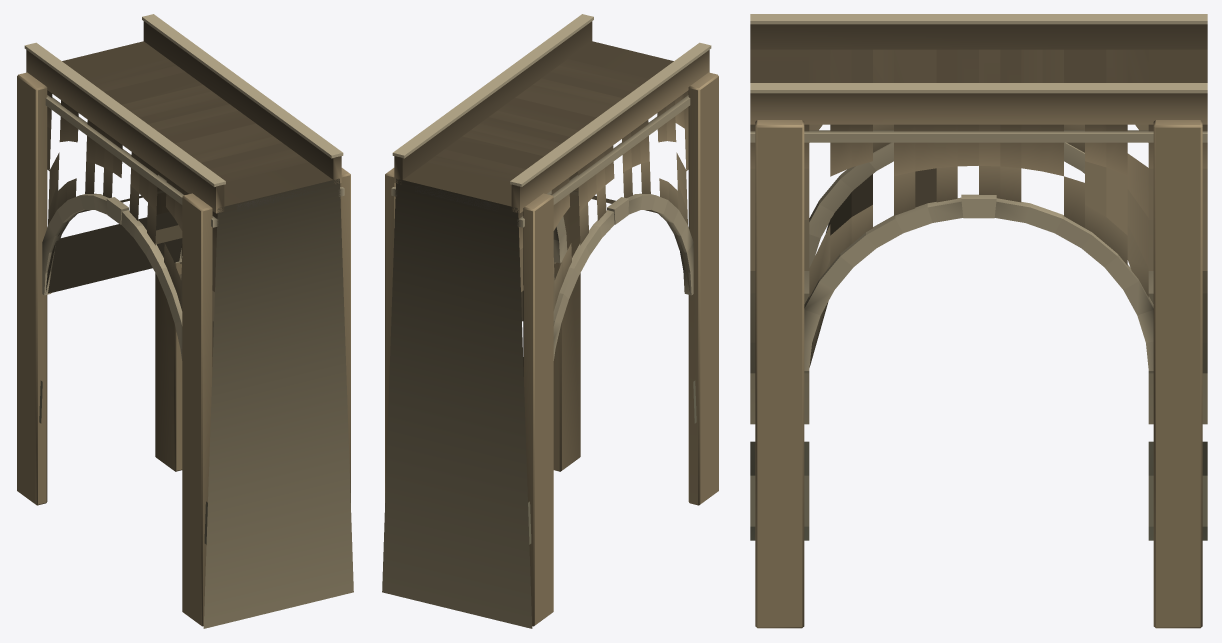
The model's file is viaduct_arch.glb.
3 views of the same model, side by side, from view 1: azimuth 30°, elevation 25°; view 2: azimuth 150°, elevation 25°; view 3: azimuth 270°, elevation 25° (orthographic). The views are drawn at different scales.
Parts seen in each view (by area): view 1: viaduct_arch_mesh; view 2: viaduct_arch_mesh; view 3: viaduct_arch_mesh.
Boxes of the visible parts, left/top/right/bottom form: viaduct_arch_mesh: left=17, top=14, right=353, bottom=628; viaduct_arch_mesh: left=382, top=14, right=718, bottom=628; viaduct_arch_mesh: left=750, top=14, right=1207, bottom=628.
Size of the model in its own units: 6.4 by 18.01 by 14.
